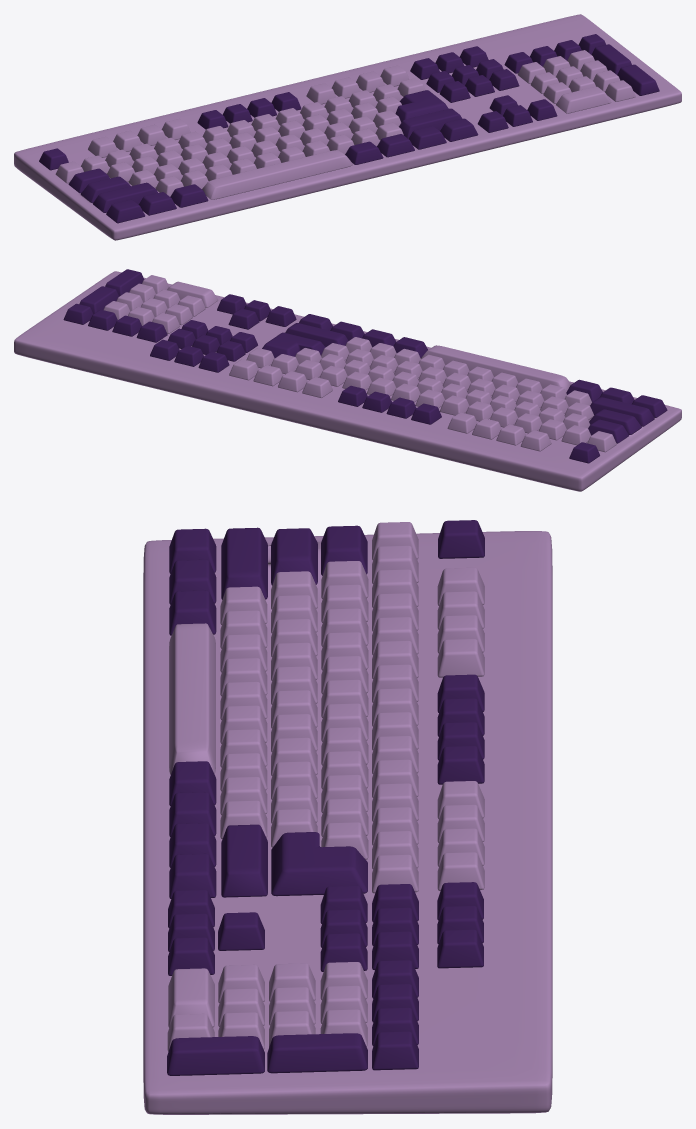
The model's file is Teclado.fbx.
3 views of the same model, one above another, from view 1: azimuth 30°, elevation 25°; view 2: azimuth 150°, elevation 25°; view 3: azimuth 270°, elevation 25° (orthographic). The views are drawn at different scales.
Visible parts, largest first — view 1: Teclado; view 2: Teclado; view 3: Teclado.
Boxes of the visible parts, box(x1,y1,x2,y2) form: Teclado: box(14, 14, 681, 240); Teclado: box(14, 269, 681, 491); Teclado: box(143, 520, 552, 1114).
Size of the model in its own units: 0.4373 by 0.02 by 0.1361.
